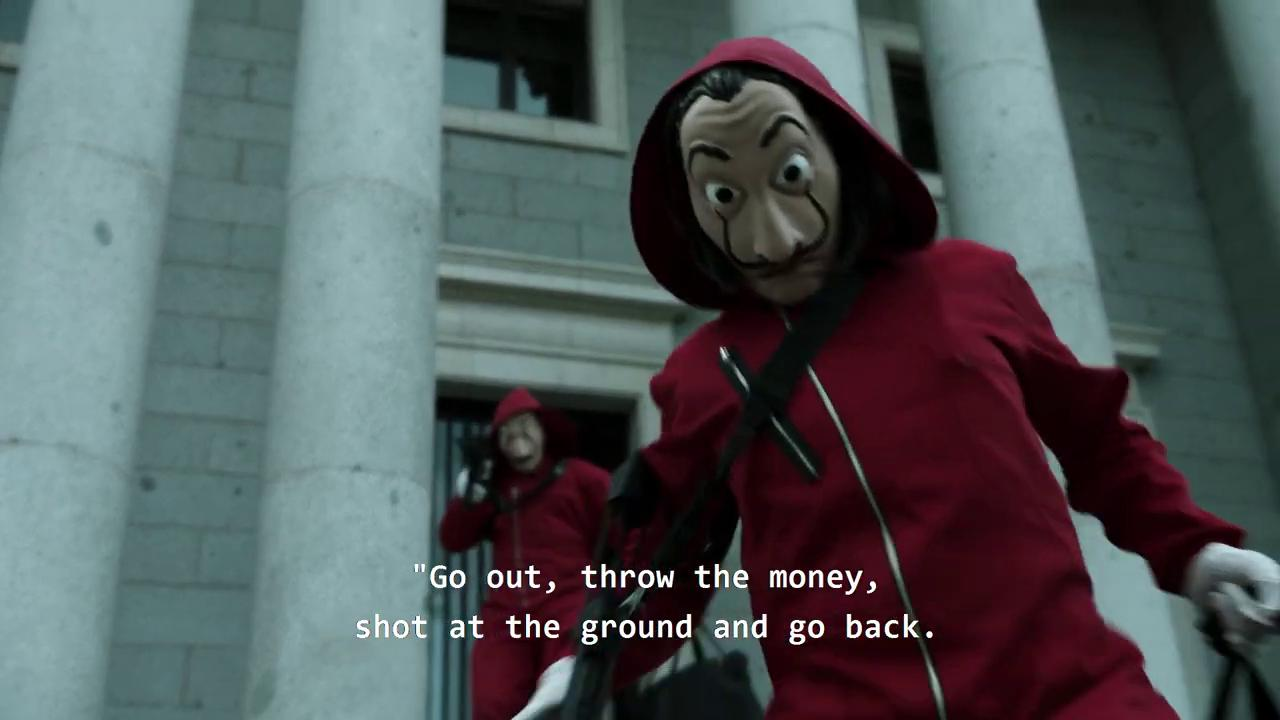criminal: (592, 37, 1280, 720), (440, 387, 625, 720)
